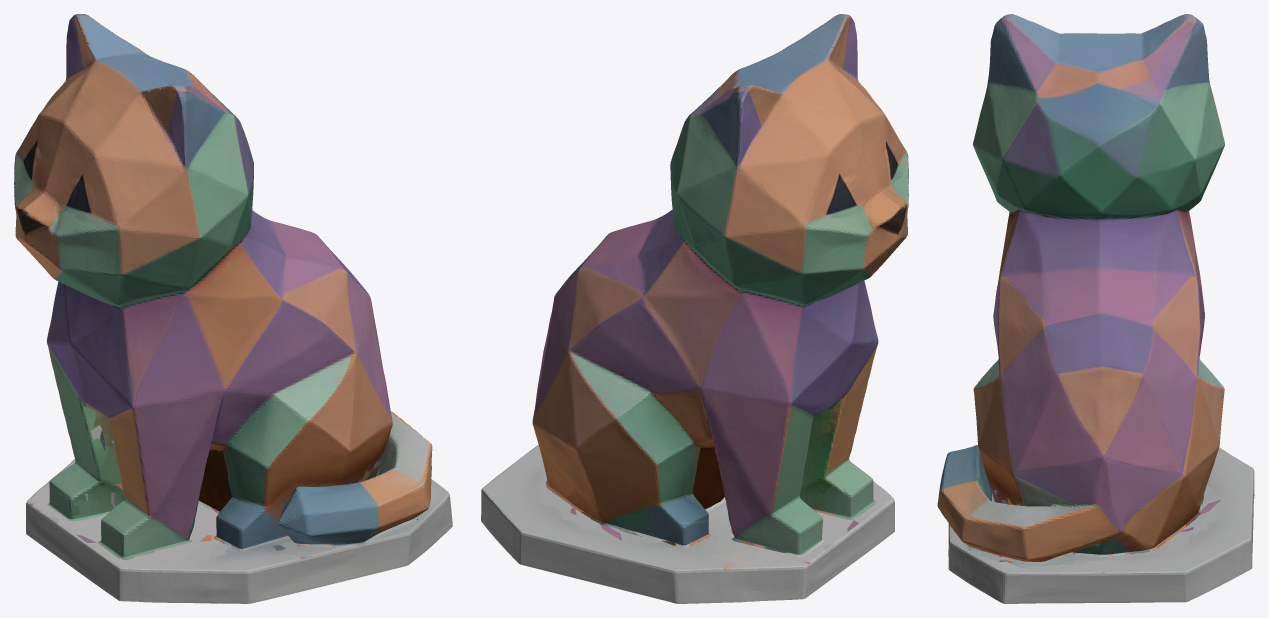
The model's file is cat_1772492794053.glb.
The picture shows the model from 3 angles, left to right: view 1: azimuth 30°, elevation 25°; view 2: azimuth 150°, elevation 25°; view 3: azimuth 270°, elevation 25°; orthographic projection. The views are drawn at different scales.
Parts seen in each view (by area): view 1: demo_textured.obj; view 2: demo_textured.obj; view 3: demo_textured.obj.
Part boxes in pixels (left/top/right/bottom): demo_textured.obj: left=14, top=14, right=452, bottom=603; demo_textured.obj: left=481, top=14, right=908, bottom=603; demo_textured.obj: left=937, top=14, right=1254, bottom=603.
Size of the model in its own units: 1.57 by 1.99 by 1.22.
Materials: 1 (1 with a texture image).
